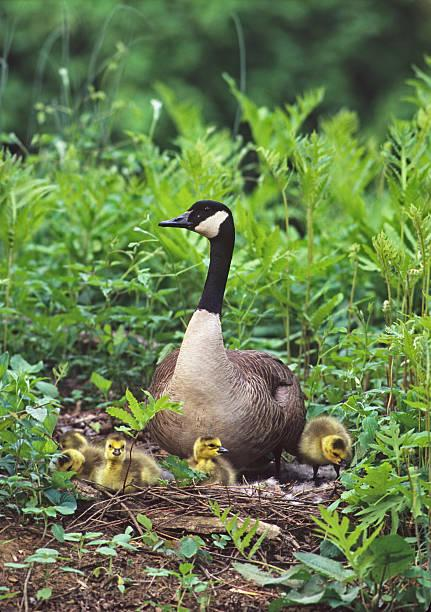Canadian-Goose: (137, 198, 308, 452)
